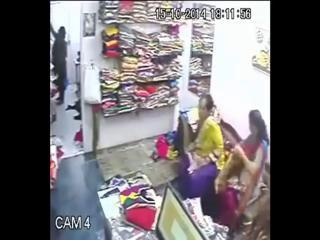Normal: (176, 94, 225, 211)
